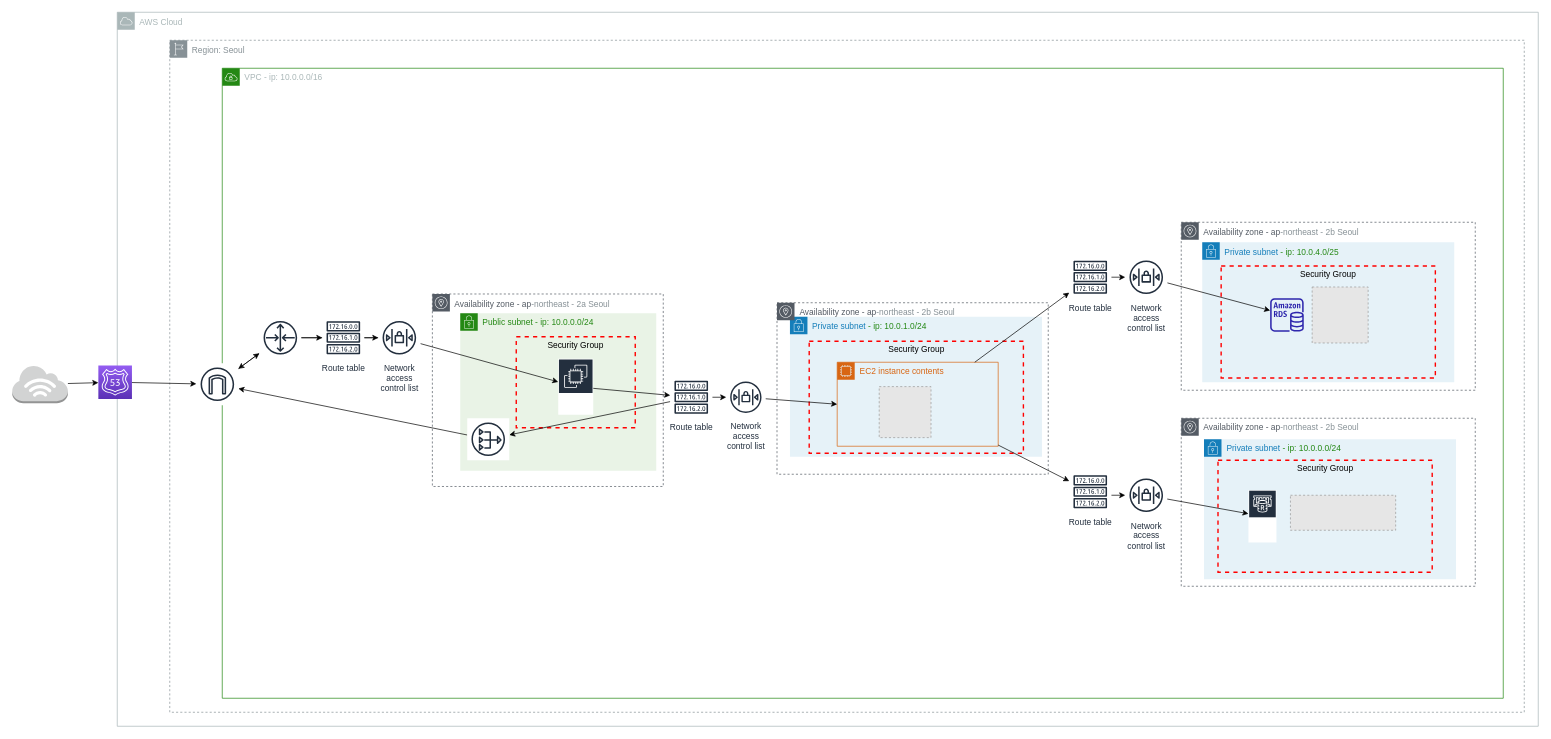
Some shapes in this 1551 by 739 pixel diagram are drawn without their labels. Grey dashed boxes stand in for pictures. The shapes that lost their labels are listed below. From the top down, each one's centre as x and y in pixels, then its label:
point (280, 337): Router
point (217, 384): Internet gateway
point (575, 386): Amazon EC2
point (488, 439): NAT gateway
point (1262, 515): Amazon ElastiCache for Redis
